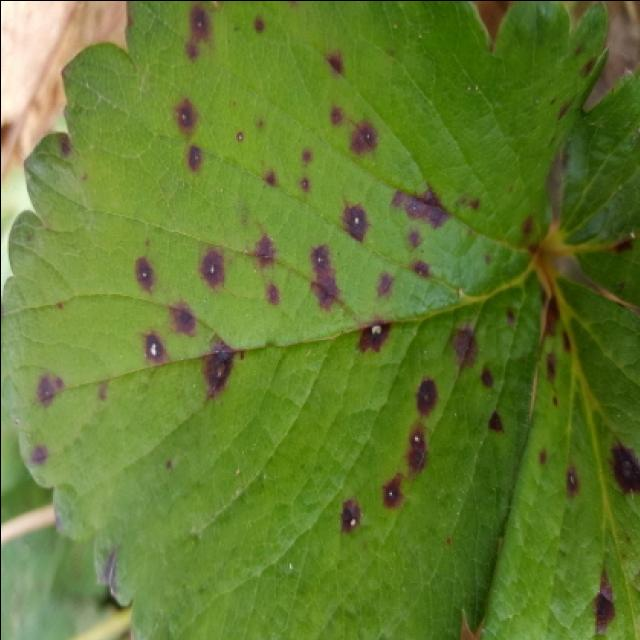Leaf Spot: (0, 2, 611, 640), (478, 281, 638, 640), (554, 67, 638, 313)
